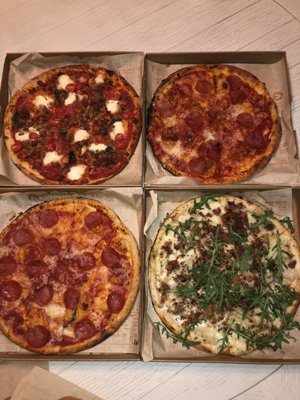curry: (1, 52, 300, 398)
sandwich: (148, 194, 300, 358), (0, 199, 141, 355), (3, 64, 143, 186), (146, 64, 283, 185)
